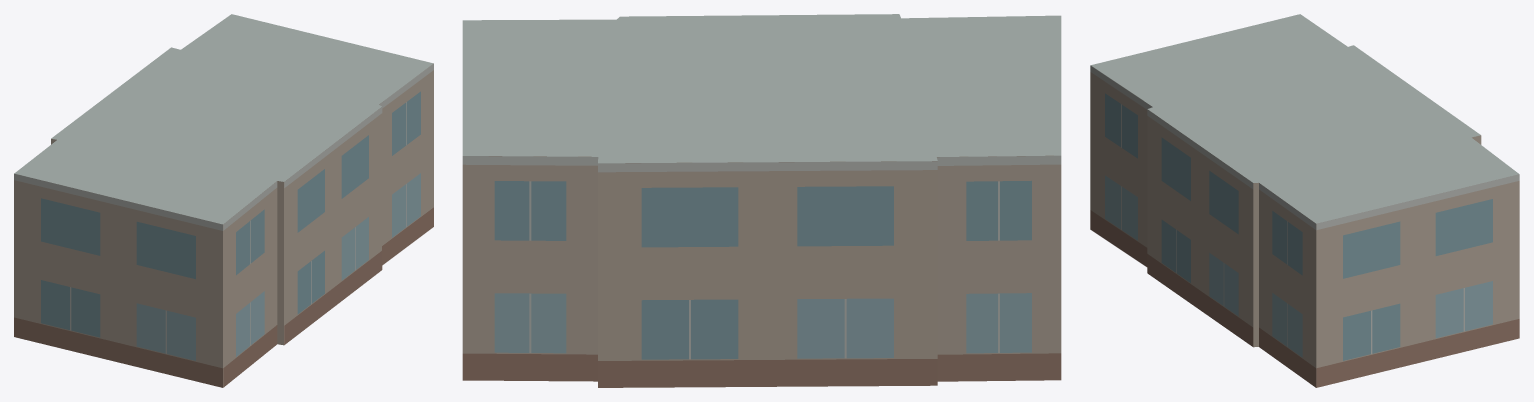
Rendered from survey-upis-32907944.glb.
The picture shows the model from 3 angles, left to right: view 1: azimuth 30°, elevation 25°; view 2: azimuth 150°, elevation 25°; view 3: azimuth 270°, elevation 25°; orthographic projection. The views are drawn at different scales.
Parts seen in each view (by area): view 1: survey-upis-32907944.tmp; view 2: survey-upis-32907944.tmp; view 3: survey-upis-32907944.tmp.
Part boxes in pixels (left/top/right/bottom): survey-upis-32907944.tmp: left=14, top=14, right=433, bottom=387; survey-upis-32907944.tmp: left=462, top=14, right=1061, bottom=387; survey-upis-32907944.tmp: left=1090, top=14, right=1519, bottom=387.
Bounding box in the file's own units: 16.72 × 6.1 × 14.46.
